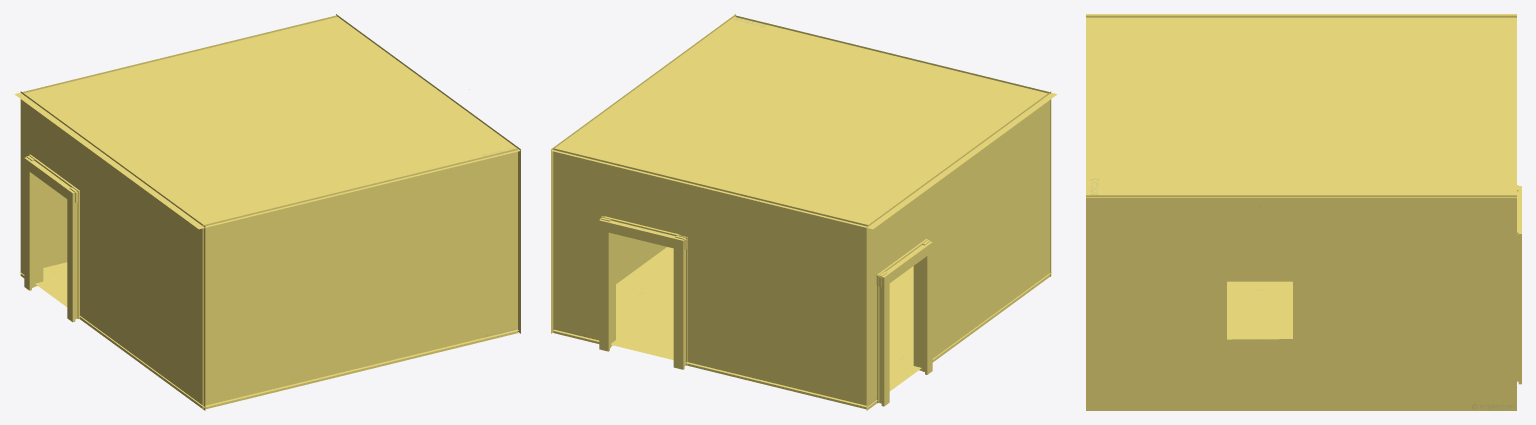
File: paredescocina.obj
3 views of the same model, side by side, from view 1: azimuth 30°, elevation 25°; view 2: azimuth 150°, elevation 25°; view 3: azimuth 270°, elevation 25° (orthographic). The views are drawn at different scales.
Parts seen in each view (by area): view 1: cuarto:cuarto:pPlane7; view 2: cuarto:cuarto:pPlane7; view 3: cuarto:cuarto:pPlane7.
Part boxes in pixels (x1=…): cuarto:cuarto:pPlane7: x1=14, y1=14, x2=521, y2=410; cuarto:cuarto:pPlane7: x1=550, y1=14, x2=1057, y2=410; cuarto:cuarto:pPlane7: x1=1086, y1=14, x2=1521, y2=410.
Bounding box in the file's own units: 9.82 × 5.13 × 9.23.
